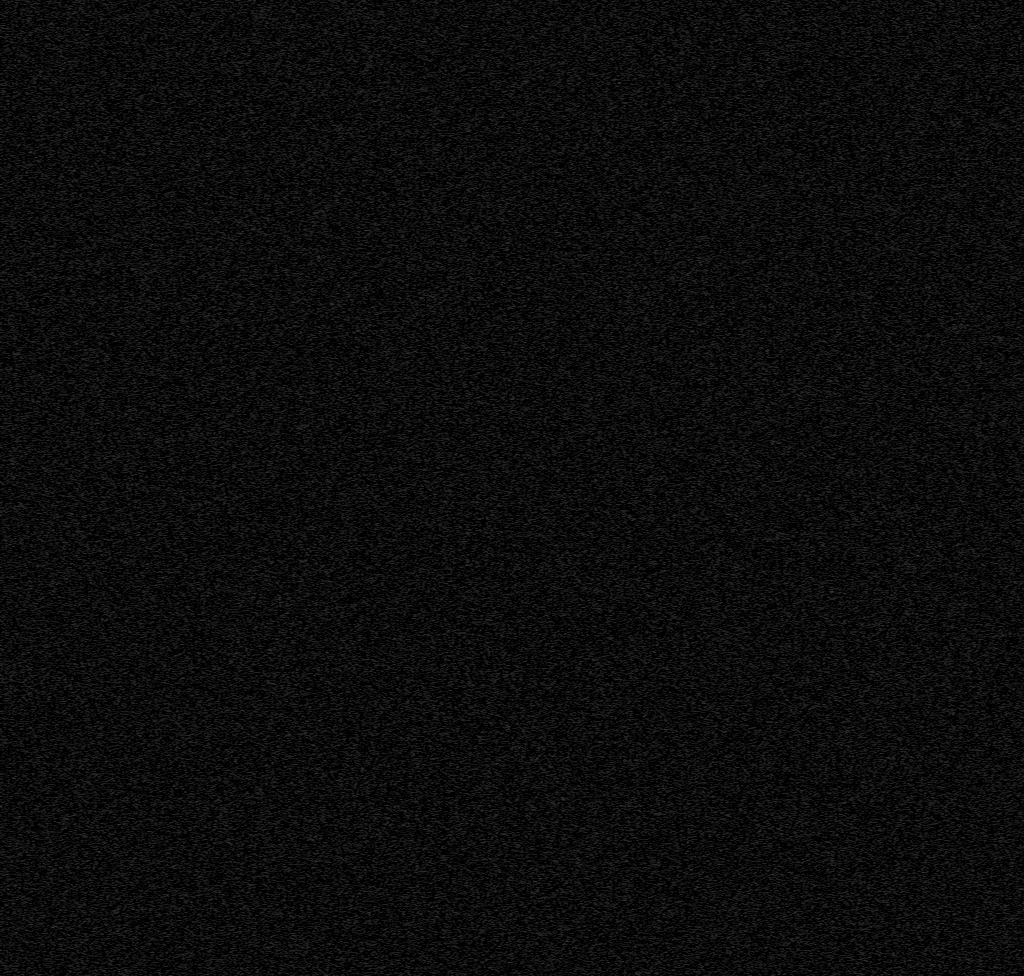wv_am: (486, 0, 494, 871), (488, 882, 493, 976), (488, 872, 493, 881)
wv_cw: (457, 0, 475, 976), (101, 0, 116, 976), (67, 0, 75, 976)
wv_lsb: (89, 526, 95, 976), (88, 6, 95, 245), (89, 246, 95, 514), (621, 670, 627, 700), (621, 181, 627, 211), (621, 264, 627, 286), (621, 562, 627, 583), (621, 358, 627, 366), (621, 370, 626, 378), (622, 287, 627, 295), (622, 212, 626, 220), (621, 54, 626, 60), (622, 297, 626, 304), (622, 869, 626, 876), (622, 224, 626, 231), (622, 633, 626, 639), (623, 585, 626, 593), (622, 307, 626, 313), (623, 249, 626, 256), (622, 734, 626, 739), (622, 701, 626, 706), (623, 335, 626, 341), (623, 721, 626, 727), (622, 595, 626, 599), (622, 877, 626, 881), (623, 314, 626, 319), (623, 233, 626, 238), (622, 628, 626, 631), (622, 609, 626, 612), (622, 605, 626, 608), (623, 330, 626, 334), (623, 740, 626, 744), (623, 716, 626, 720), (622, 712, 626, 715), (623, 885, 626, 888), (623, 618, 626, 621), (622, 382, 625, 385)
wv_usb: (17, 509, 34, 976), (22, 4, 30, 494), (87, 446, 94, 694), (87, 5, 94, 206), (87, 206, 94, 364), (87, 797, 94, 938), (87, 365, 93, 408), (88, 705, 93, 754), (87, 939, 93, 976), (87, 409, 93, 445), (88, 755, 93, 796)
